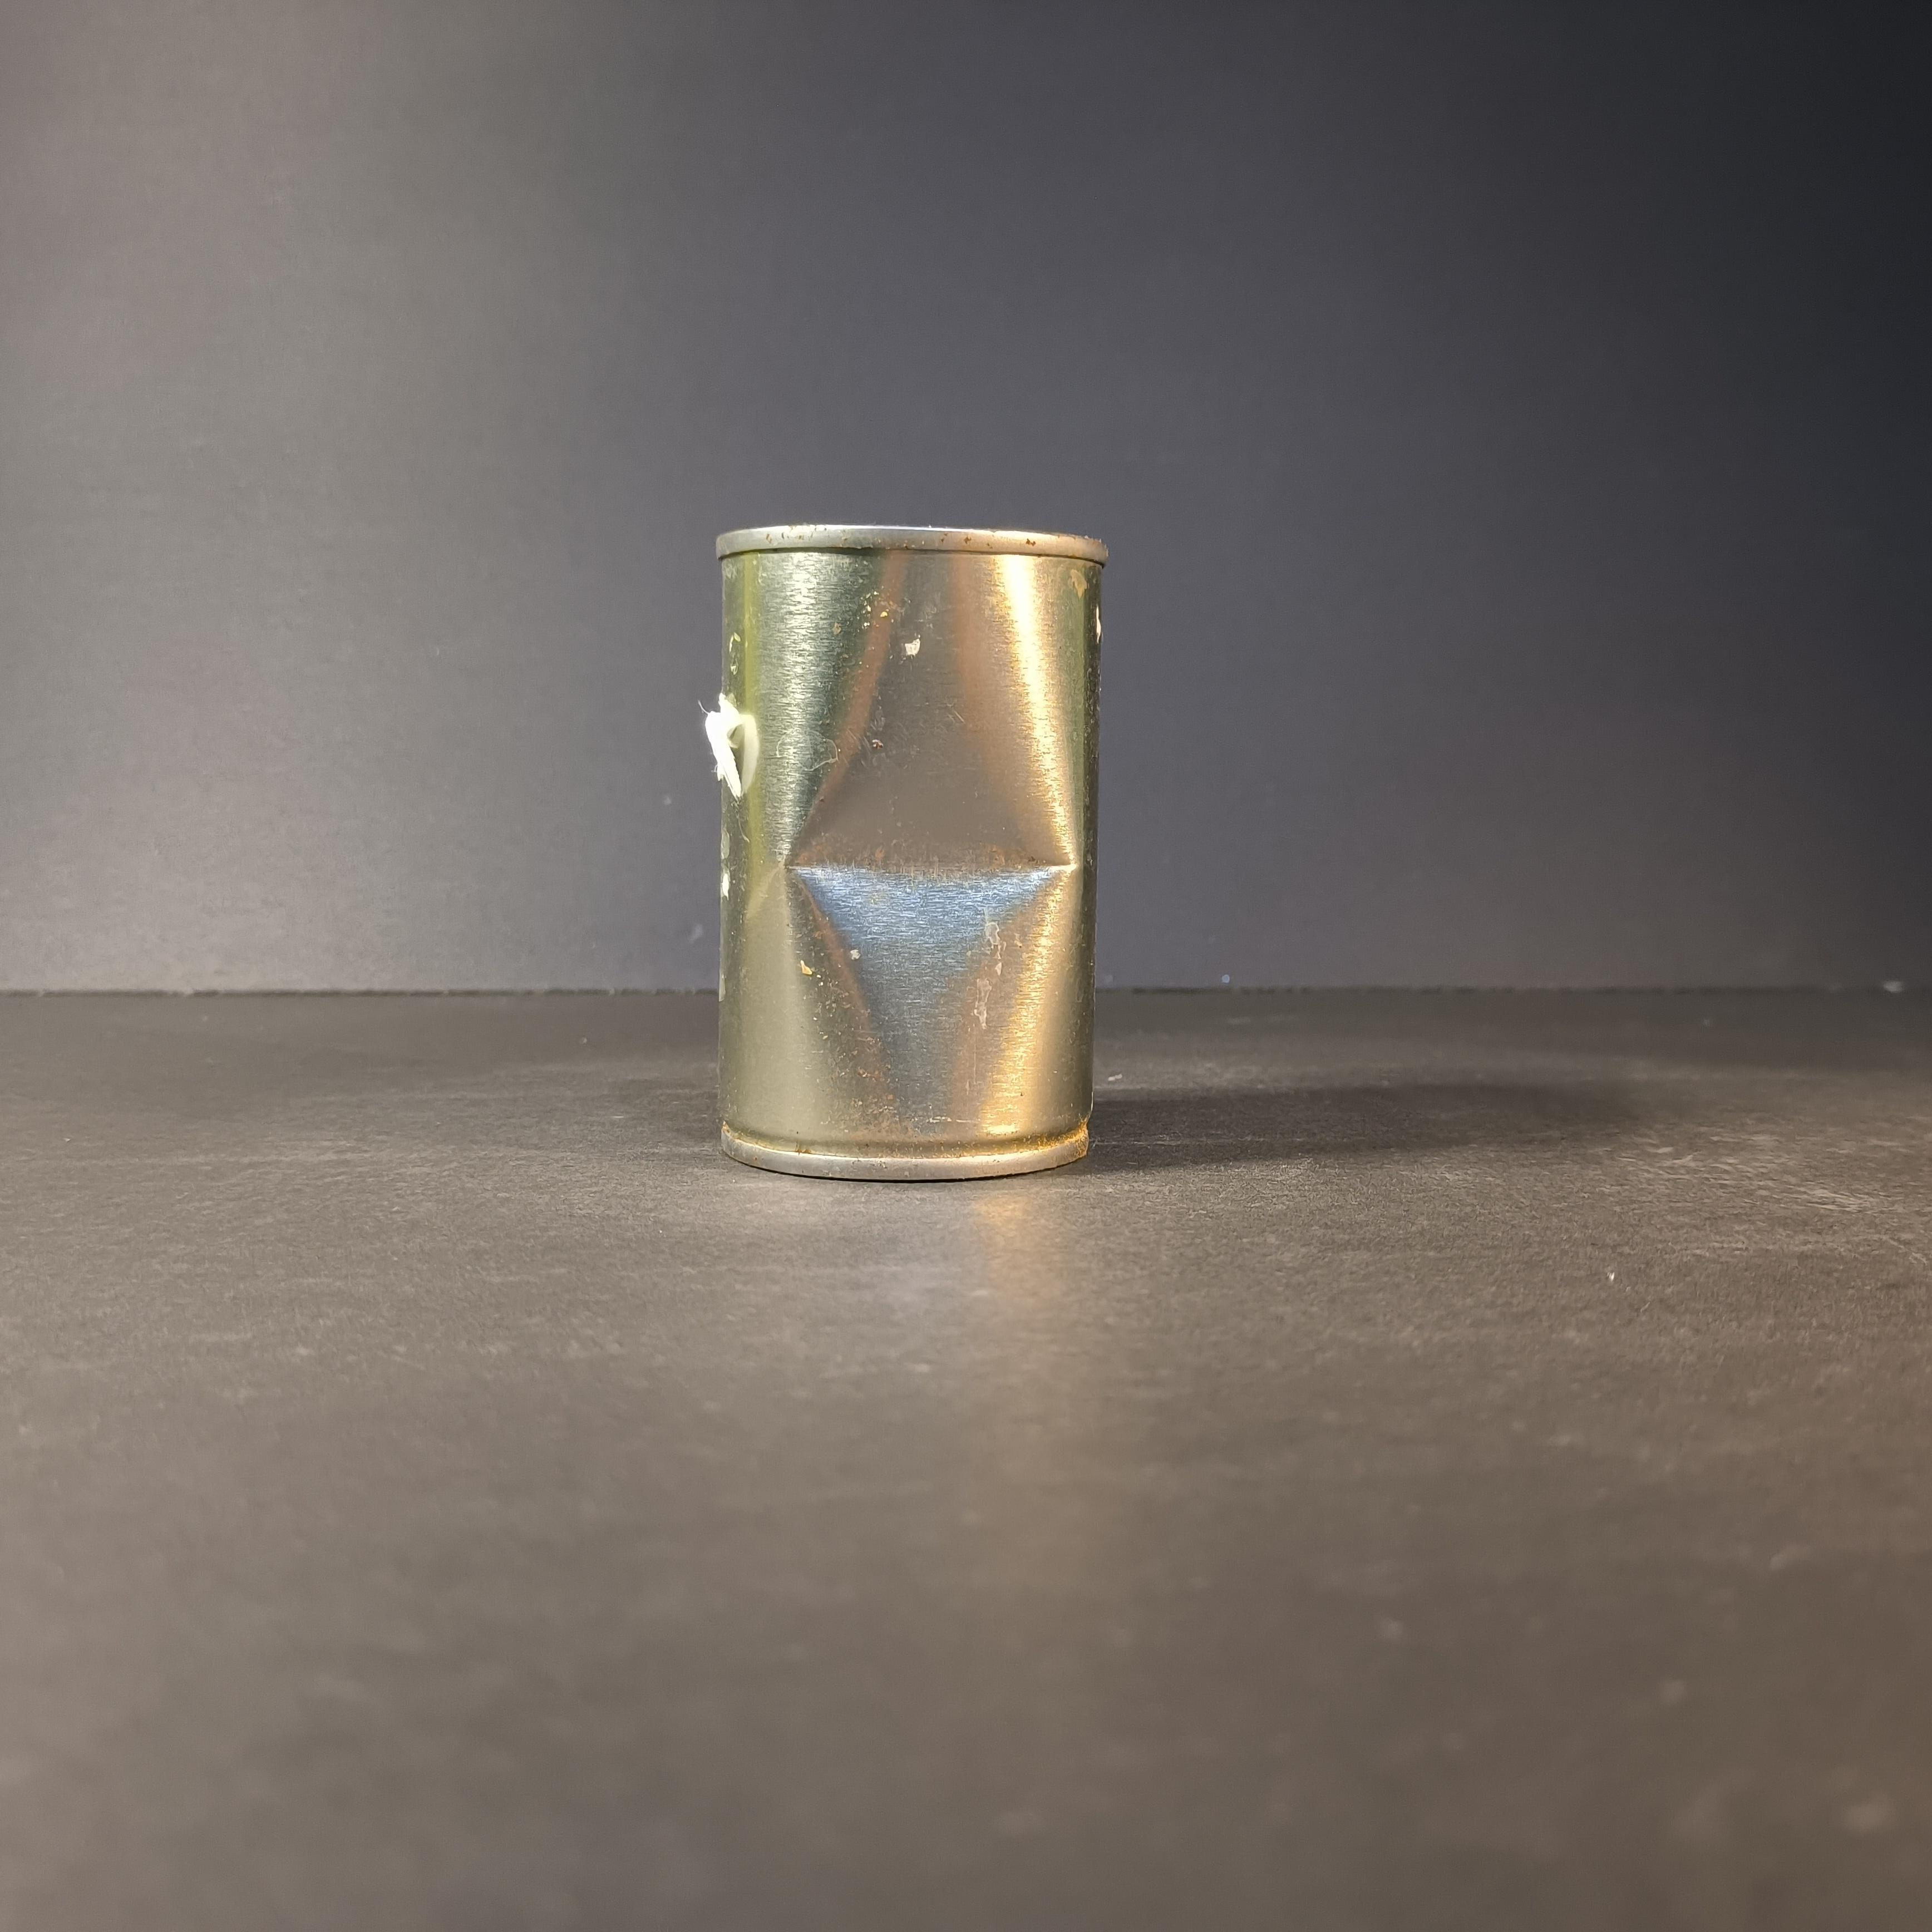Dented: (695, 485, 1122, 1185)
